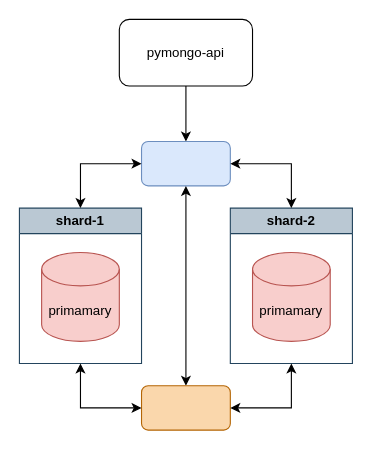
Image size: 372x450. Some labels were removed from this diagram. The shapes that lost their labels are listed below. From the top down, each one's centre as x and y in pixels, then its label:
At (x=185, y=163): "mongos-router".
At (x=185, y=407): "config-srv".
